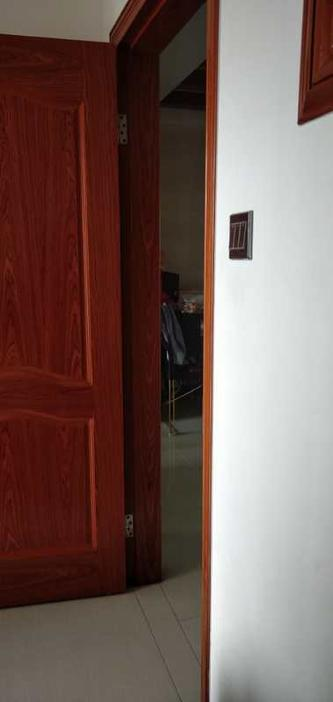switch: (228, 221, 248, 257)
